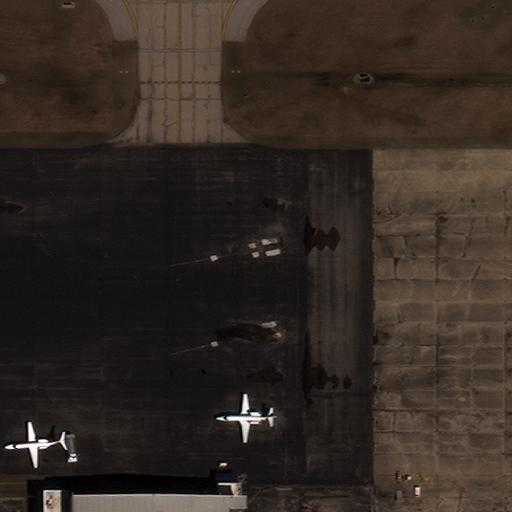Medium Civil Transport: (215, 394, 277, 442), (4, 422, 66, 468)
